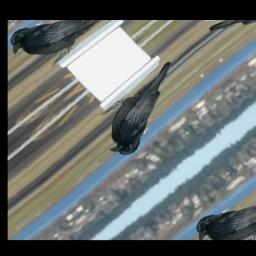Crow: (85, 59, 205, 163)
